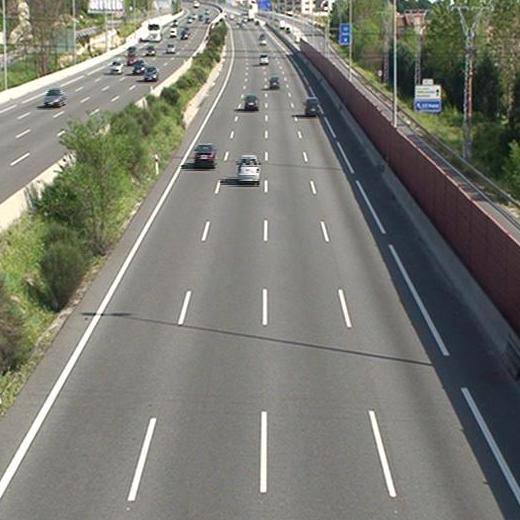car: (237, 156, 260, 182), (194, 144, 216, 168), (304, 96, 319, 116), (244, 95, 258, 110), (269, 76, 282, 90), (258, 55, 268, 65)
